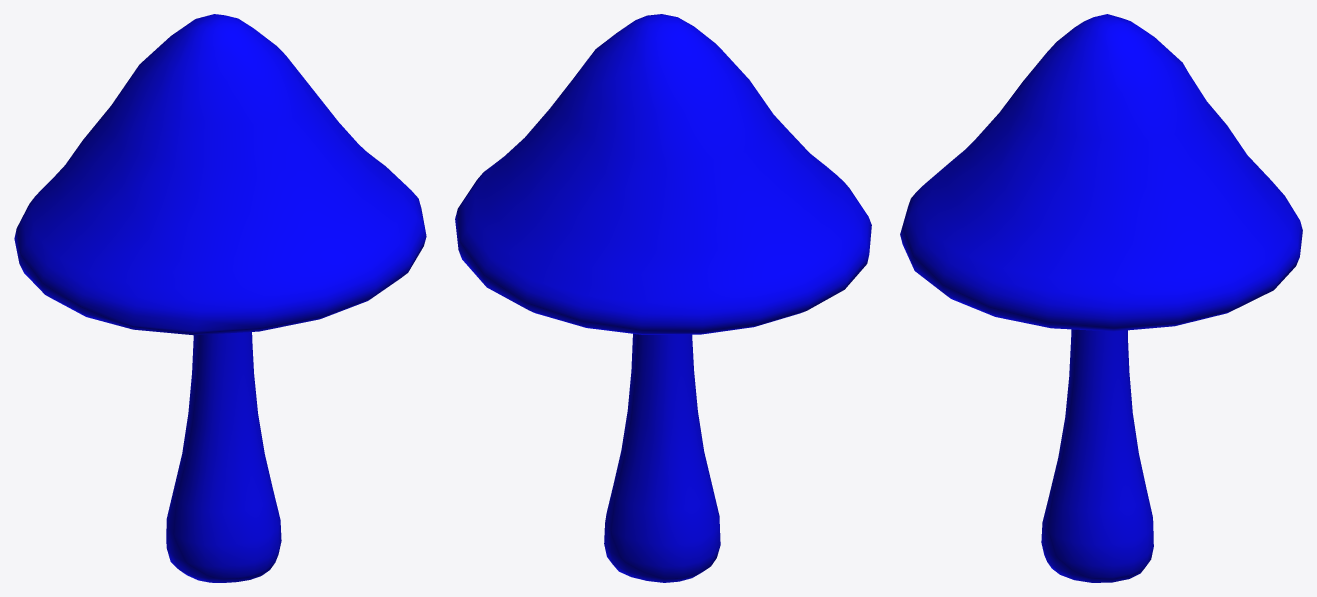
The model's file is mushroom 29.fbx.
The picture shows the model from 3 angles, left to right: view 1: azimuth 30°, elevation 25°; view 2: azimuth 150°, elevation 25°; view 3: azimuth 270°, elevation 25°; orthographic projection.
Visible parts, largest first — view 1: Mushroom_0001_0029; view 2: Mushroom_0001_0029; view 3: Mushroom_0001_0029.
Boxes of the visible parts, left/top/right/bottom form: Mushroom_0001_0029: left=14, top=14, right=426, bottom=582; Mushroom_0001_0029: left=455, top=14, right=871, bottom=582; Mushroom_0001_0029: left=900, top=14, right=1302, bottom=582.
Bounding box in the file's own units: 14.1 × 20.38 × 13.62.
1 material, 1 textured.
